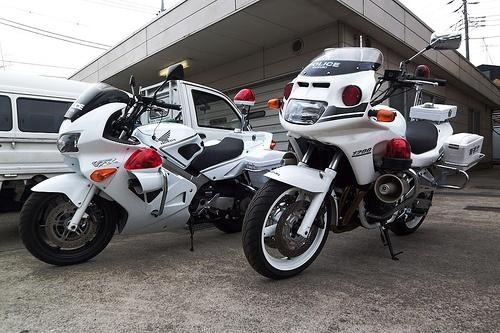motorbike: (244, 28, 486, 285), (19, 79, 265, 275)
